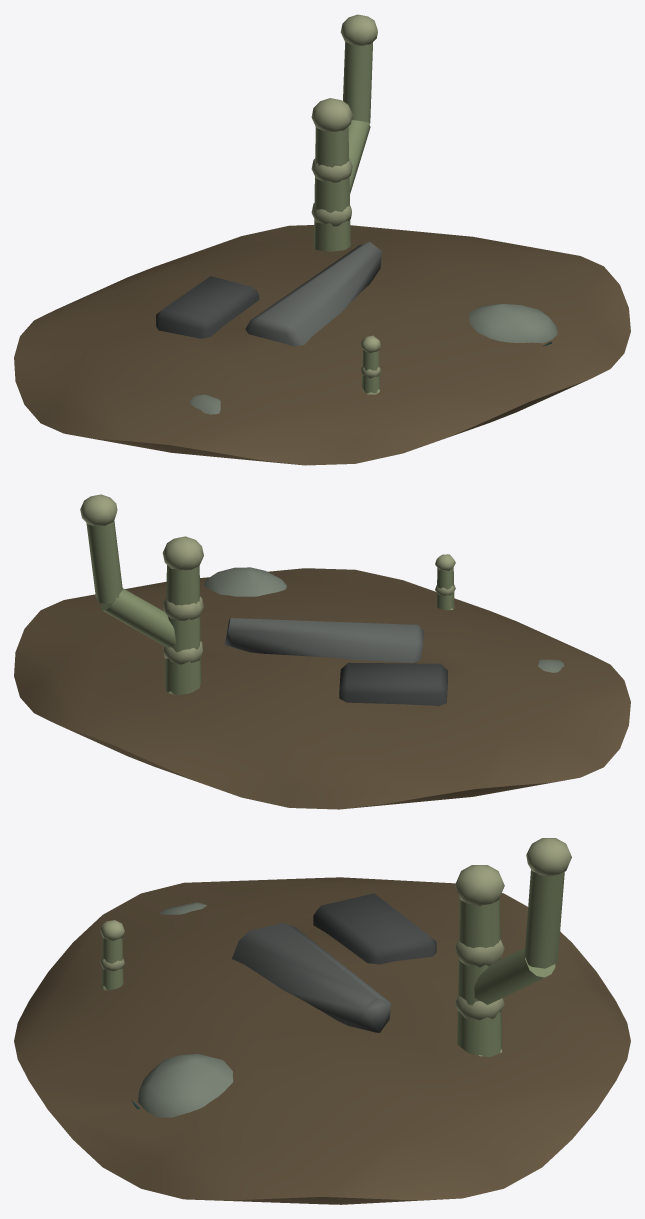
File: rock_bucket_b_lod1.glb
The picture shows the model from 3 angles, top to bottom: view 1: azimuth 30°, elevation 25°; view 2: azimuth 150°, elevation 25°; view 3: azimuth 270°, elevation 25°; orthographic projection. The views are drawn at different scales.
Parts seen in each view (by area): view 1: Surface.001; view 2: Surface.001; view 3: Surface.001.
Part boxes in pixels (x1,y1,x2,y2): Surface.001: (14,14,630,465); Surface.001: (14,494,630,809); Surface.001: (14,838,630,1204).
Size of the model in its own units: 3.03 by 1.41 by 2.35.
